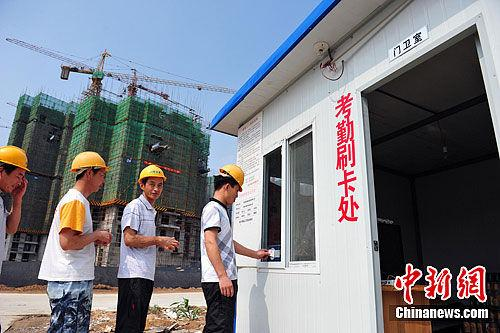helmet: (71, 153, 112, 174), (1, 148, 32, 173), (221, 165, 248, 192), (139, 166, 168, 183)
